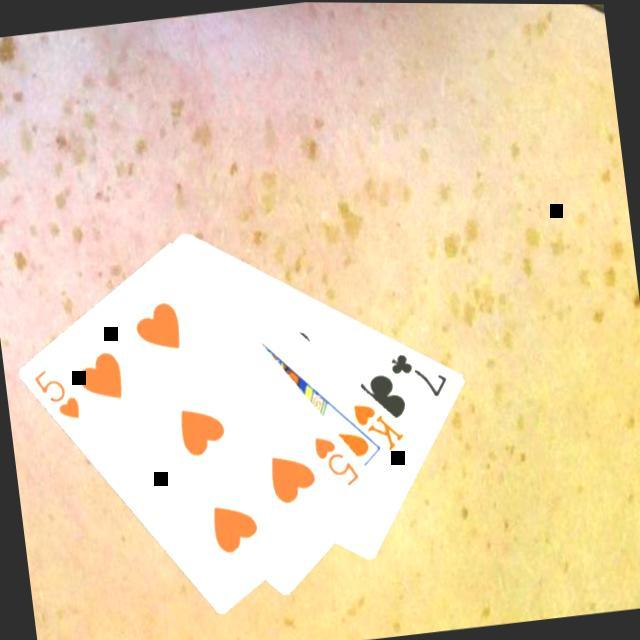5H: (308, 426, 363, 491), (29, 360, 84, 425)
7C: (384, 342, 452, 403)
KH: (349, 393, 409, 455)
